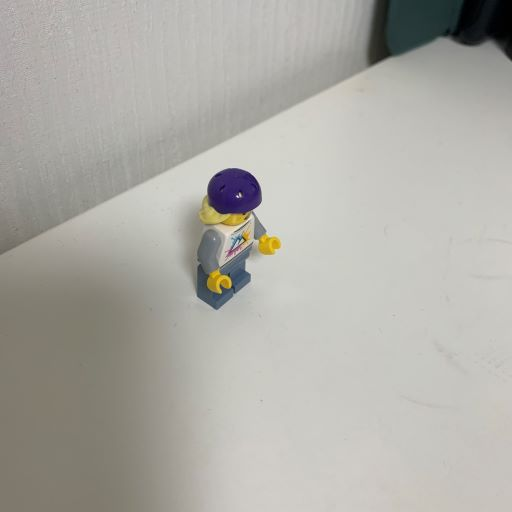human: (182, 162, 290, 312)
